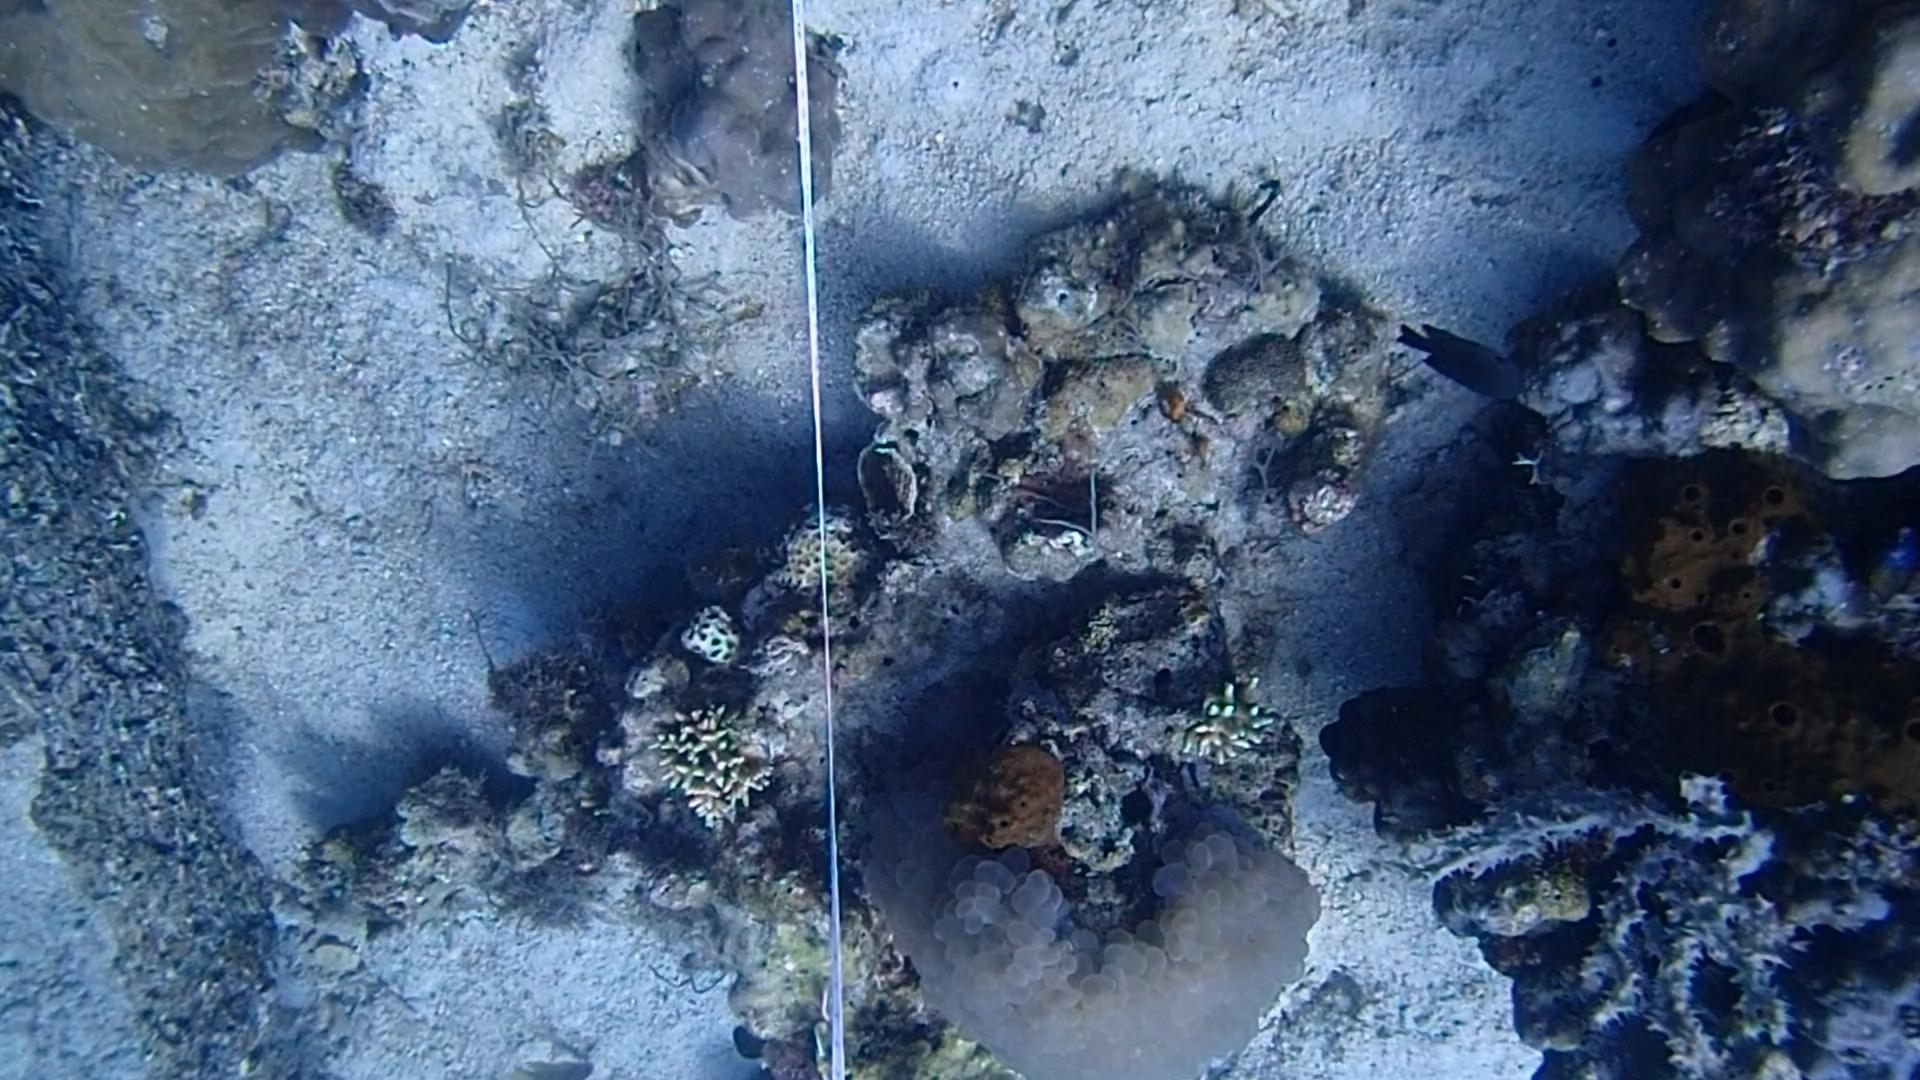Big Dark Blue Fish: (1381, 306, 1547, 421)
Light Fish: (504, 1056, 593, 1077)
